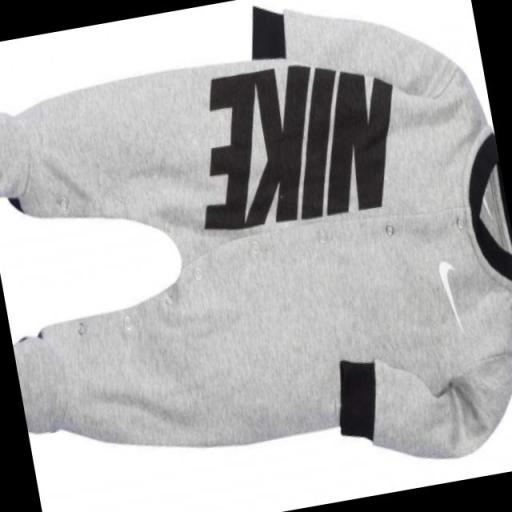Nike: (432, 253, 469, 339)
